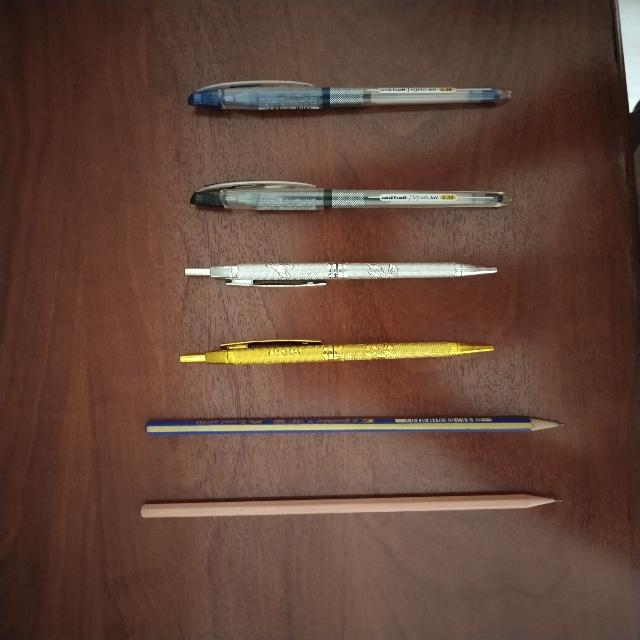pen: (188, 80, 510, 109), (190, 181, 510, 210)
pencil: (141, 494, 555, 517), (146, 416, 561, 434)
signature pen: (180, 339, 492, 364), (185, 263, 496, 286)
